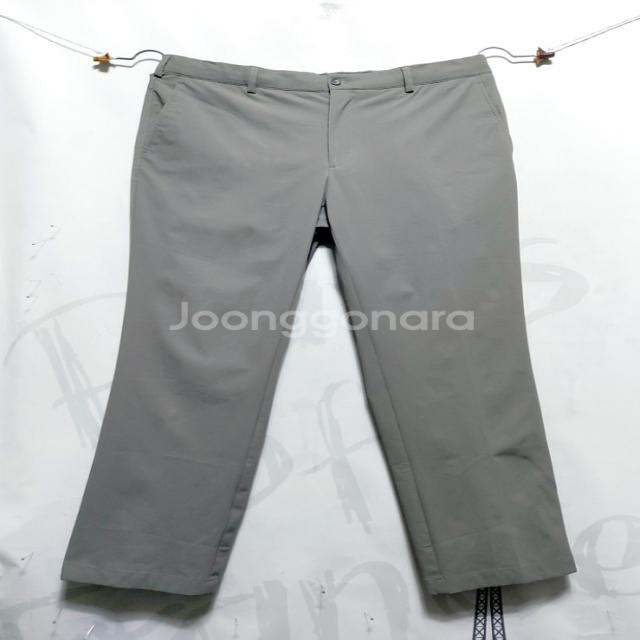long-pants: (65, 52, 581, 604)
